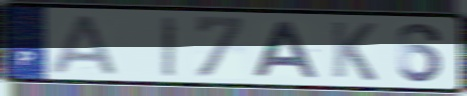6: (396, 21, 445, 84)
7: (193, 14, 246, 81)
A: (49, 12, 121, 77), (251, 20, 323, 80)
I: (160, 14, 180, 78)
K: (329, 19, 379, 83)
